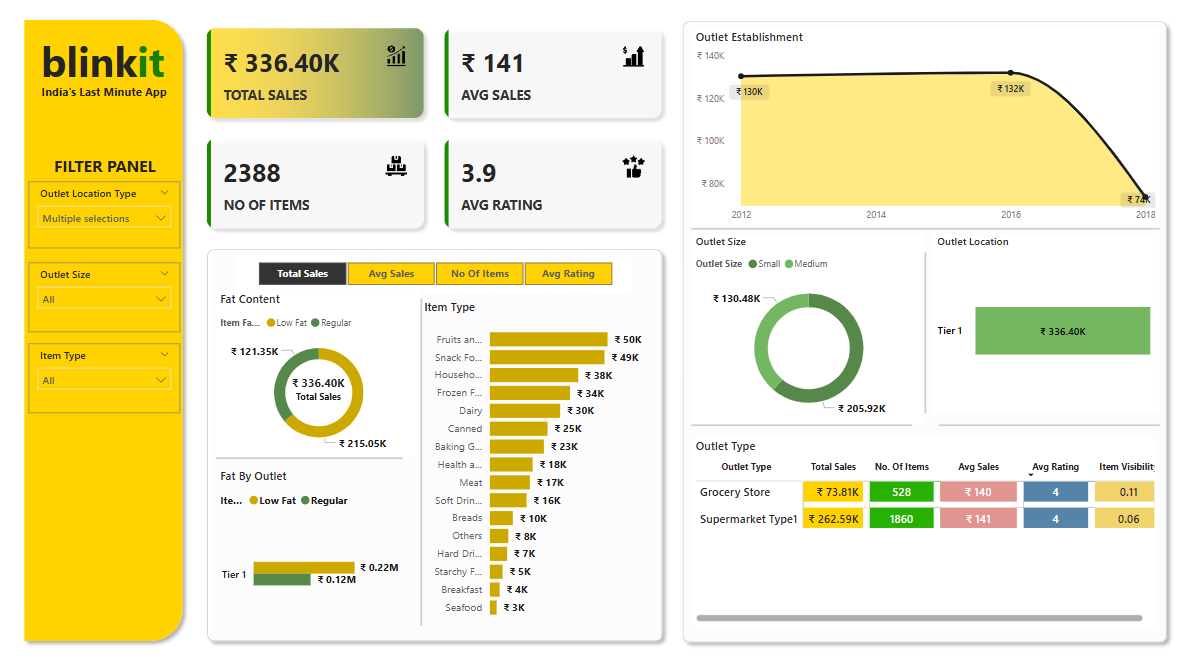

This screenshot's page, from the dashboard's own definition file:
{"tool":"powerbi","page":{"name":"Page 1","canvas":[1400,800],"ordinal":0},"visuals":[{"type":"shape","box":[20,25,205,750],"z":0},{"type":"textbox","box":[36.8,44.8,167.8,77],"z":1000},{"type":"textbox","box":[39.1,103.4,167.8,35.6],"z":2000},{"type":"cardVisual","fields":{"Data":["BlinkIT Grocery Data.Total Sales","BlinkIT Grocery Data.Average Sales","BlinkIT Grocery Data.No. Of Items","BlinkIT Grocery Data.Avg Rating"]},"box":[225.7,25.7,570,270],"z":3000},{"type":"shape","box":[234.3,295.7,554.3,480],"z":4000},{"type":"donutChart","title":" Fat Content","fields":{"Y":["BlinkIT Grocery Data.Total Sales"],"Category":["BlinkIT Grocery Data.Item Fat Content"]},"box":[254.3,352.9,241.4,194.3],"z":5000},{"type":"slicer","fields":{"Values":["Metrics.Metrics"]},"box":[278.6,312.9,465.7,40],"z":6000},{"type":"cardVisual","fields":{"Data":["BlinkIT Grocery Data.Total Sales"]},"box":[323.3,435,103.3,61.7],"z":7000},{"type":"clusteredBarChart","title":"Fat By Outlet","fields":{"Y":["BlinkIT Grocery Data.Total Sales"],"Category":["BlinkIT Grocery Data.Outlet Location Type"],"Series":["BlinkIT Grocery Data.Item Fat Content"]},"box":[254.3,562.9,220,195.7],"z":8000},{"type":"shape","box":[254.3,535.7,220,30],"z":9000},{"type":"shape","box":[480,362.9,31.4,385.7],"z":10000},{"type":"barChart","title":"Item Type","fields":{"Y":["BlinkIT Grocery Data.Total Sales"],"Category":["BlinkIT Grocery Data.Item Type"]},"box":[495.7,362.9,275.7,385.7],"z":11000},{"type":"shape","box":[795.7,25.7,588.6,750],"z":12000},{"type":"lineChart","title":" Outlet Establishment ","fields":{"Category":["BlinkIT Grocery Data.Outlet Establishment Year"],"Y":["BlinkIT Grocery Data.Total Sales"]},"box":[814.3,44.3,551.4,235.7],"z":13000},{"type":"shape","box":[814.3,264.3,551.4,30],"z":14000},{"type":"donutChart","title":"Outlet Size","fields":{"Category":["BlinkIT Grocery Data.Outlet Size"],"Y":["BlinkIT Grocery Data.Total Sales"]},"box":[814.3,287.1,275.7,225.7],"z":15000},{"type":"shape","box":[1074.3,307.1,31.4,190],"z":16000},{"type":"funnel","title":"Outlet Location ","fields":{"Y":["BlinkIT Grocery Data.Total Sales"],"Category":["BlinkIT Grocery Data.Outlet Location Type"]},"box":[1100,285.7,265.7,211.4],"z":17000},{"type":"shape","box":[814.3,497.1,260,30],"z":18000},{"type":"shape","box":[1105.7,497.1,260,30],"z":19000},{"type":"pivotTable","title":"Outlet Type","fields":{"Rows":["BlinkIT Grocery Data.Outlet Type"],"Values":["BlinkIT Grocery Data.Total Sales","BlinkIT Grocery Data.No. Of Items","BlinkIT Grocery Data.Avg Sales","BlinkIT Grocery Data.Avg Rating","Avg(BlinkIT Grocery Data.Item Visibility)"]},"box":[815,526.7,550,221.7],"z":20000},{"type":"slicer","fields":{"Values":["BlinkIT Grocery Data.Outlet Location Type"]},"box":[33.3,225,178.3,78.3],"z":21000},{"type":"slicer","fields":{"Values":["BlinkIT Grocery Data.Outlet Size"]},"box":[33.3,320,178.3,81.7],"z":22000},{"type":"slicer","fields":{"Values":["BlinkIT Grocery Data.Item Type"]},"box":[33.3,415,178.3,81.7],"z":23000},{"type":"textbox","box":[46.7,186.7,155,38.3],"z":24000}]}

Visuals, with their boxes in screenshot pixels (x1, y1, x2, y2), scaled from the page's 1400x800 canvas onto the 1188x662 screenshot:
shape: {"left": 17, "top": 21, "right": 191, "bottom": 641}
textbox: {"left": 31, "top": 37, "right": 174, "bottom": 101}
textbox: {"left": 33, "top": 86, "right": 176, "bottom": 115}
cardVisual - BlinkIT Grocery Data.Total Sales x BlinkIT Grocery Data.Average Sales: {"left": 192, "top": 21, "right": 675, "bottom": 245}
shape: {"left": 199, "top": 245, "right": 669, "bottom": 642}
" Fat Content" donutChart: {"left": 216, "top": 292, "right": 421, "bottom": 453}
slicer - Metrics.Metrics: {"left": 236, "top": 259, "right": 632, "bottom": 292}
cardVisual - BlinkIT Grocery Data.Total Sales: {"left": 274, "top": 360, "right": 362, "bottom": 411}
"Fat By Outlet" clusteredBarChart: {"left": 216, "top": 466, "right": 402, "bottom": 628}
shape: {"left": 216, "top": 443, "right": 402, "bottom": 468}
shape: {"left": 407, "top": 300, "right": 434, "bottom": 619}
"Item Type" barChart: {"left": 421, "top": 300, "right": 655, "bottom": 619}
shape: {"left": 675, "top": 21, "right": 1175, "bottom": 642}
" Outlet Establishment " lineChart: {"left": 691, "top": 37, "right": 1159, "bottom": 232}
shape: {"left": 691, "top": 219, "right": 1159, "bottom": 244}
"Outlet Size" donutChart: {"left": 691, "top": 238, "right": 925, "bottom": 424}
shape: {"left": 912, "top": 254, "right": 938, "bottom": 411}
"Outlet Location " funnel: {"left": 933, "top": 236, "right": 1159, "bottom": 411}
shape: {"left": 691, "top": 411, "right": 912, "bottom": 436}
shape: {"left": 938, "top": 411, "right": 1159, "bottom": 436}
"Outlet Type" pivotTable: {"left": 692, "top": 436, "right": 1158, "bottom": 619}
slicer - BlinkIT Grocery Data.Outlet Location Type: {"left": 28, "top": 186, "right": 180, "bottom": 251}
slicer - BlinkIT Grocery Data.Outlet Size: {"left": 28, "top": 265, "right": 180, "bottom": 332}
slicer - BlinkIT Grocery Data.Item Type: {"left": 28, "top": 343, "right": 180, "bottom": 411}
textbox: {"left": 40, "top": 154, "right": 171, "bottom": 186}
